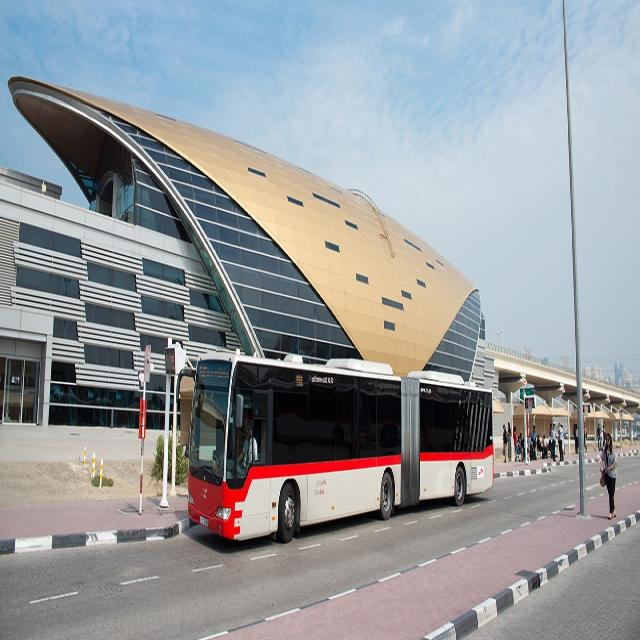bus: (189, 347, 493, 543)
